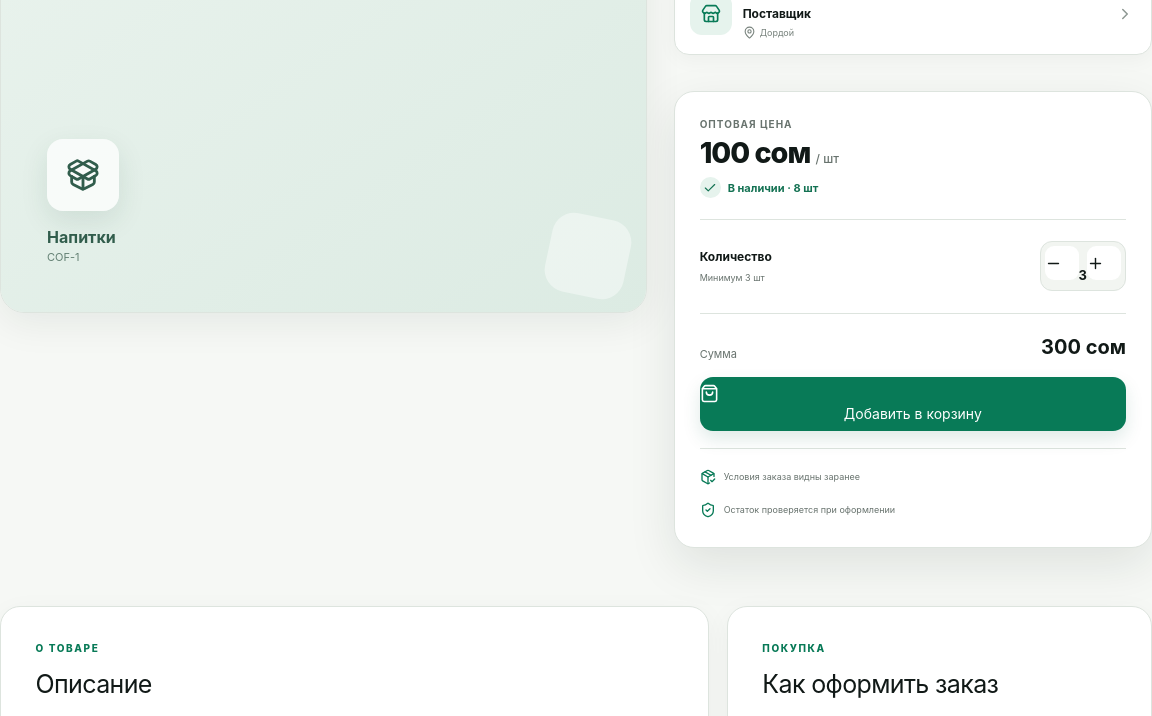
Test: product detail › maps backend MOQ_NOT_MET errors for the user
The width and height of the screenshot is (1152, 716).
(page scrolled)
Click the button "Добавить в корзину". click: click(913, 404)
box: x1=700 y1=377 x2=1126 y2=431
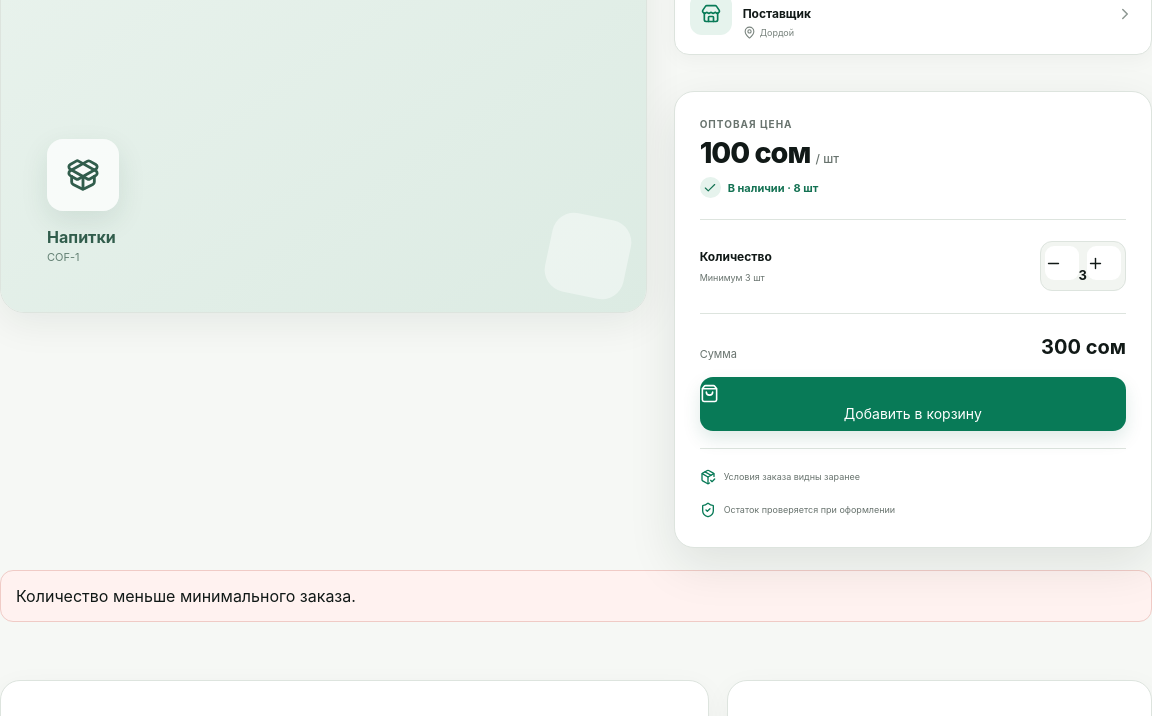
Now the text "Количество меньше минимального заказа." is shown, box x1=0 y1=570 x2=1151 y2=622
